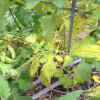Tomato mold leaf: (76, 61, 92, 85), (16, 78, 37, 90)
